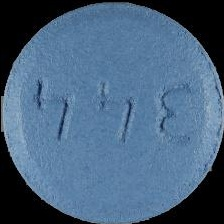55700-317: (0, 0, 224, 224)
